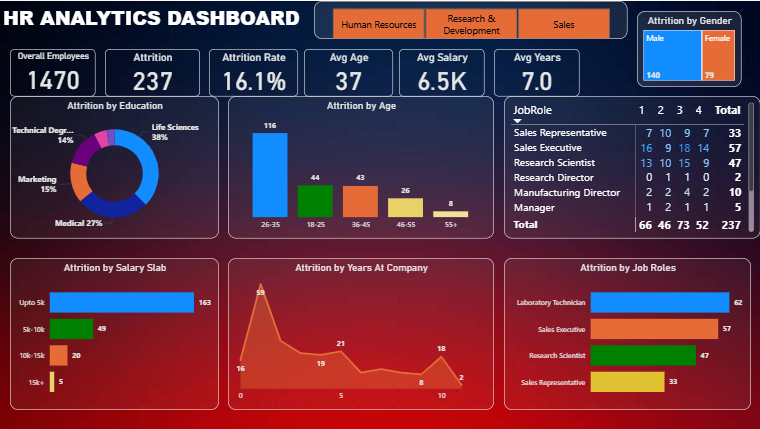

The page's visual inventory and layout, read from the dashboard file:
{"tool":"powerbi","page":{"name":"Page 1","canvas":[1280,720],"ordinal":0},"visuals":[{"type":"card","title":"Attrition","fields":{"Values":["Sum(HR_Analytics.AttritionCount)"]},"box":[176,80,160,80],"z":0},{"type":"card","title":"Attrition Rate","fields":{"Values":["HR_Analytics.AttritionRate"]},"box":[352,80,150,80],"z":1000},{"type":"card","title":"Avg Age","fields":{"Values":["Avg(HR_Analytics.Age)"]},"box":[512,80,150,80],"z":2000},{"type":"card","title":"Avg Salary","fields":{"Values":["Avg(HR_Analytics.MonthlyIncome)"]},"box":[672,80,144,80],"z":3000},{"type":"card","title":"Avg Years","fields":{"Values":["Avg(HR_Analytics.YearsAtCompany)"]},"box":[832,80,144,80],"z":4000},{"type":"donutChart","title":"Attrition by Education","fields":{"Category":["HR_Analytics.EducationField"],"Y":["Sum(HR_Analytics.AttritionCount)"]},"box":[16,160,352,240],"z":5000},{"type":"columnChart","title":"Attrition by  Age","fields":{"Category":["HR_Analytics.AgeGroup"],"Y":["Sum(HR_Analytics.AttritionCount)"]},"box":[384,160,448,240],"z":6000},{"type":"pivotTable","fields":{"Rows":["HR_Analytics.JobRole"],"Columns":["HR_Analytics.JobSatisfaction"],"Values":["Sum(HR_Analytics.AttritionCount)"]},"box":[848,160,432,240],"z":7000},{"type":"barChart","title":"Attrition by Salary Slab","fields":{"Category":["HR_Analytics.SalarySlab"],"Y":["Sum(HR_Analytics.AttritionCount)"]},"box":[16,432,352,256],"z":8000},{"type":"barChart","title":"Attrition by Job Roles","fields":{"Category":["HR_Analytics.JobRole"],"Y":["Sum(HR_Analytics.AttritionCount)"]},"box":[848,432,416,256],"z":9000},{"type":"areaChart","title":"Attrition by Years At Company","fields":{"Category":["HR_Analytics.YearsAtCompany"],"Y":["Sum(HR_Analytics.AttritionCount)"]},"box":[384,432,448,256],"z":10000},{"type":"treemap","title":"Attrition by Gender","fields":{"Group":["HR_Analytics.Gender"],"Values":["Sum(HR_Analytics.AttritionCount)"]},"box":[1072,16,176,128],"z":11000},{"type":"slicer","fields":{"Values":["HR_Analytics.Department"]},"box":[528,0,528,64],"z":12000},{"type":"textbox","box":[0,0,512,64],"z":13000},{"type":"card","title":"Overall Employees","fields":{"Values":["CountNonNull(HR_Analytics.EmpID)"]},"box":[16,80,144,80],"z":14000}]}

Visuals, with their boxes in screenshot pixels (x1, y1, x2, y2), scaled from the page's 1280x720 canvas onto the 760x429 screenshot:
"Attrition" card: 104:48:200:95
"Attrition Rate" card: 209:48:298:95
"Avg Age" card: 304:48:393:95
"Avg Salary" card: 399:48:484:95
"Avg Years" card: 494:48:580:95
"Attrition by Education" donutChart: 10:95:218:238
"Attrition by  Age" columnChart: 228:95:494:238
pivotTable - HR_Analytics.JobRole x HR_Analytics.JobSatisfaction: 504:95:759:238
"Attrition by Salary Slab" barChart: 10:257:218:410
"Attrition by Job Roles" barChart: 504:257:750:410
"Attrition by Years At Company" areaChart: 228:257:494:410
"Attrition by Gender" treemap: 636:10:741:86
slicer - HR_Analytics.Department: 314:0:627:38
textbox: 0:0:304:38
"Overall Employees" card: 10:48:95:95
